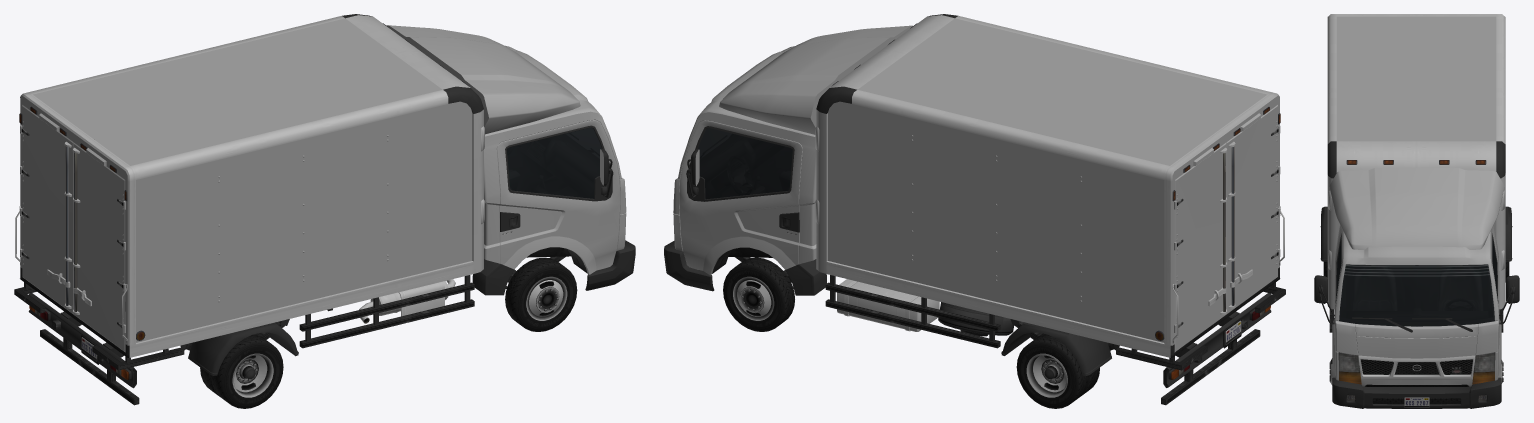
File: lct300007.glb
3 views of the same model, side by side, from view 1: azimuth 30°, elevation 25°; view 2: azimuth 150°, elevation 25°; view 3: azimuth 270°, elevation 25° (orthographic). The views are drawn at different scales.
Visible parts, largest first — view 1: LCT300007_Body_LCT13_07_Bodymat_0, LCT300007_Bottom_UCB_BOTTOM_0, LCT300007_Reardoor_Left_LCT13_07_Bodymat_0, LCT300007_Reardoor_Right_LCT13_07_Bodymat_0, LCT300007_Glass_Driver_UCB_Lights_and_Glass_Transperent_0, LCT300007_interior_UCB_Interiors_2_0, LCT300007_WheelStock_FR_RB1c_Tire_1k_0, LCT300007_WheelStock_RR_RB1c_Tire_1k_0, LCT300007_Bumper_rear_UCB_BOTTOM_0, LCT300007_BUMPER_FRONT_UCB_BOTTOM_0, LCT300007_Reardoor_Left_Inner_UCB_BOTTOM_0, LCT300007_Reardoor_Right_Inner_UCB_BOTTOM_0; view 2: LCT300007_Body_LCT13_07_Bodymat_0, LCT300007_Bottom_UCB_BOTTOM_0, LCT300007_Reardoor_Right_LCT13_07_Bodymat_0, LCT300007_Reardoor_Left_LCT13_07_Bodymat_0, LCT300007_Glass_Driver_UCB_Lights_and_Glass_Transperent_0, LCT300007_WheelStock_FR_RB1c_Tire_1k_0, LCT300007_WheelStock_RL_RB1c_Tire_1k_0, LCT300007_interior_UCB_Interiors_2_0, LCT300007_Bumper_rear_UCB_BOTTOM_0, LCT300007_BUMPER_FRONT_UCB_BOTTOM_0, LCT300007_Reardoor_Right_Inner_UCB_BOTTOM_0, LCT300007_Reardoor_Left_Inner_UCB_BOTTOM_0 (+1 smaller); view 3: LCT300007_Body_LCT13_07_Bodymat_0, LCT300007_Bottom_UCB_BOTTOM_0, LCT300007_Windshield_UCB_Lights_and_Glass_Transperent_0, LCT300007_interior_UCB_Interiors_2_0, LCT300007_BUMPER_FRONT_UCB_BOTTOM_0, LCT300007_Headlight_Glass_UCB_Lights_and_Glass_Transperent_0, LCT300007_Headlights_UCB_Lights_and_Glass_0, LCT300007_BUMPER_FRONT_INNER_UCB_BOTTOM_0, LCT300007_Taillights_Glass_UCB_Lights_and_Glass_Transperent_, LCT300007_Blinkers_UCB_Lights_and_Glass_0, LCT300007_Numberplate_front_Numberplates_Misk_U_0, LCT300007_Steering_Wheel_UCB_Interiors_2_0.
Part boxes in pixels (x1=…): LCT300007_Body_LCT13_07_Bodymat_0: x1=20, y1=18, x2=626, y2=345; LCT300007_Bottom_UCB_BOTTOM_0: x1=14, y1=14, x2=613, y2=405; LCT300007_Reardoor_Left_LCT13_07_Bodymat_0: x1=22, y1=105, x2=73, y2=314; LCT300007_Reardoor_Right_LCT13_07_Bodymat_0: x1=73, y1=143, x2=125, y2=352; LCT300007_Glass_Driver_UCB_Lights_and_Glass_Transperent_0: x1=507, y1=128, x2=601, y2=198; LCT300007_interior_UCB_Interiors_2_0: x1=508, y1=134, x2=599, y2=198; LCT300007_WheelStock_FR_RB1c_Tire_1k_0: x1=505, y1=257, x2=577, y2=331; LCT300007_WheelStock_RR_RB1c_Tire_1k_0: x1=200, y1=333, x2=283, y2=408; LCT300007_Bumper_rear_UCB_BOTTOM_0: x1=28, y1=293, x2=136, y2=388; LCT300007_BUMPER_FRONT_UCB_BOTTOM_0: x1=585, y1=240, x2=635, y2=290; LCT300007_Reardoor_Left_Inner_UCB_BOTTOM_0: x1=21, y1=128, x2=71, y2=308; LCT300007_Reardoor_Right_Inner_UCB_BOTTOM_0: x1=73, y1=147, x2=125, y2=327; LCT300007_Body_LCT13_07_Bodymat_0: x1=673, y1=18, x2=1280, y2=345; LCT300007_Bottom_UCB_BOTTOM_0: x1=686, y1=14, x2=1285, y2=405; LCT300007_Reardoor_Right_LCT13_07_Bodymat_0: x1=1226, y1=105, x2=1277, y2=314; LCT300007_Reardoor_Left_LCT13_07_Bodymat_0: x1=1174, y1=143, x2=1226, y2=352; LCT300007_Glass_Driver_UCB_Lights_and_Glass_Transperent_0: x1=698, y1=128, x2=792, y2=199; LCT300007_WheelStock_FR_RB1c_Tire_1k_0: x1=723, y1=257, x2=794, y2=331; LCT300007_WheelStock_RL_RB1c_Tire_1k_0: x1=1016, y1=333, x2=1099, y2=408; LCT300007_interior_UCB_Interiors_2_0: x1=700, y1=135, x2=791, y2=198; LCT300007_Bumper_rear_UCB_BOTTOM_0: x1=1163, y1=293, x2=1271, y2=387; LCT300007_BUMPER_FRONT_UCB_BOTTOM_0: x1=664, y1=241, x2=714, y2=291; LCT300007_Reardoor_Right_Inner_UCB_BOTTOM_0: x1=1228, y1=128, x2=1278, y2=308; LCT300007_Reardoor_Left_Inner_UCB_BOTTOM_0: x1=1177, y1=147, x2=1227, y2=327; LCT300007_Body_LCT13_07_Bodymat_0: x1=1329, y1=16, x2=1504, y2=386; LCT300007_Bottom_UCB_BOTTOM_0: x1=1314, y1=14, x2=1519, y2=386; LCT300007_Windshield_UCB_Lights_and_Glass_Transperent_0: x1=1339, y1=264, x2=1494, y2=326; LCT300007_interior_UCB_Interiors_2_0: x1=1337, y1=244, x2=1496, y2=321; LCT300007_BUMPER_FRONT_UCB_BOTTOM_0: x1=1332, y1=377, x2=1501, y2=408; LCT300007_Headlight_Glass_UCB_Lights_and_Glass_Transperent_0: x1=1338, y1=352, x2=1495, y2=372; LCT300007_Headlights_UCB_Lights_and_Glass_0: x1=1339, y1=352, x2=1494, y2=371; LCT300007_BUMPER_FRONT_INNER_UCB_BOTTOM_0: x1=1347, y1=395, x2=1486, y2=404; LCT300007_Taillights_Glass_UCB_Lights_and_Glass_Transperent_: x1=1339, y1=371, x2=1494, y2=384; LCT300007_Blinkers_UCB_Lights_and_Glass_0: x1=1339, y1=372, x2=1494, y2=383; LCT300007_Numberplate_front_Numberplates_Misk_U_0: x1=1404, y1=397, x2=1429, y2=407; LCT300007_Steering_Wheel_UCB_Interiors_2_0: x1=1445, y1=298, x2=1475, y2=310.
Bounding box in the file's own units: 5.86 × 2.84 × 2.43.
Materials: 8 (7 with a texture image).
